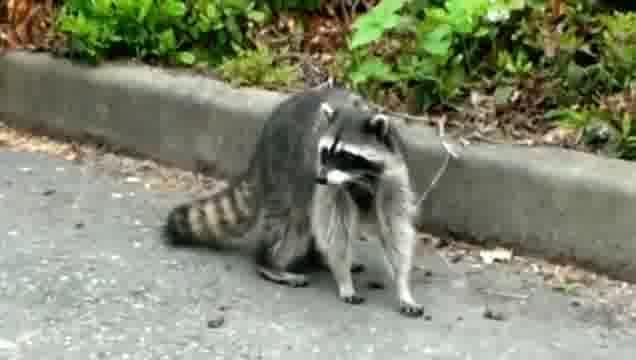raccoon: (163, 90, 427, 317)
